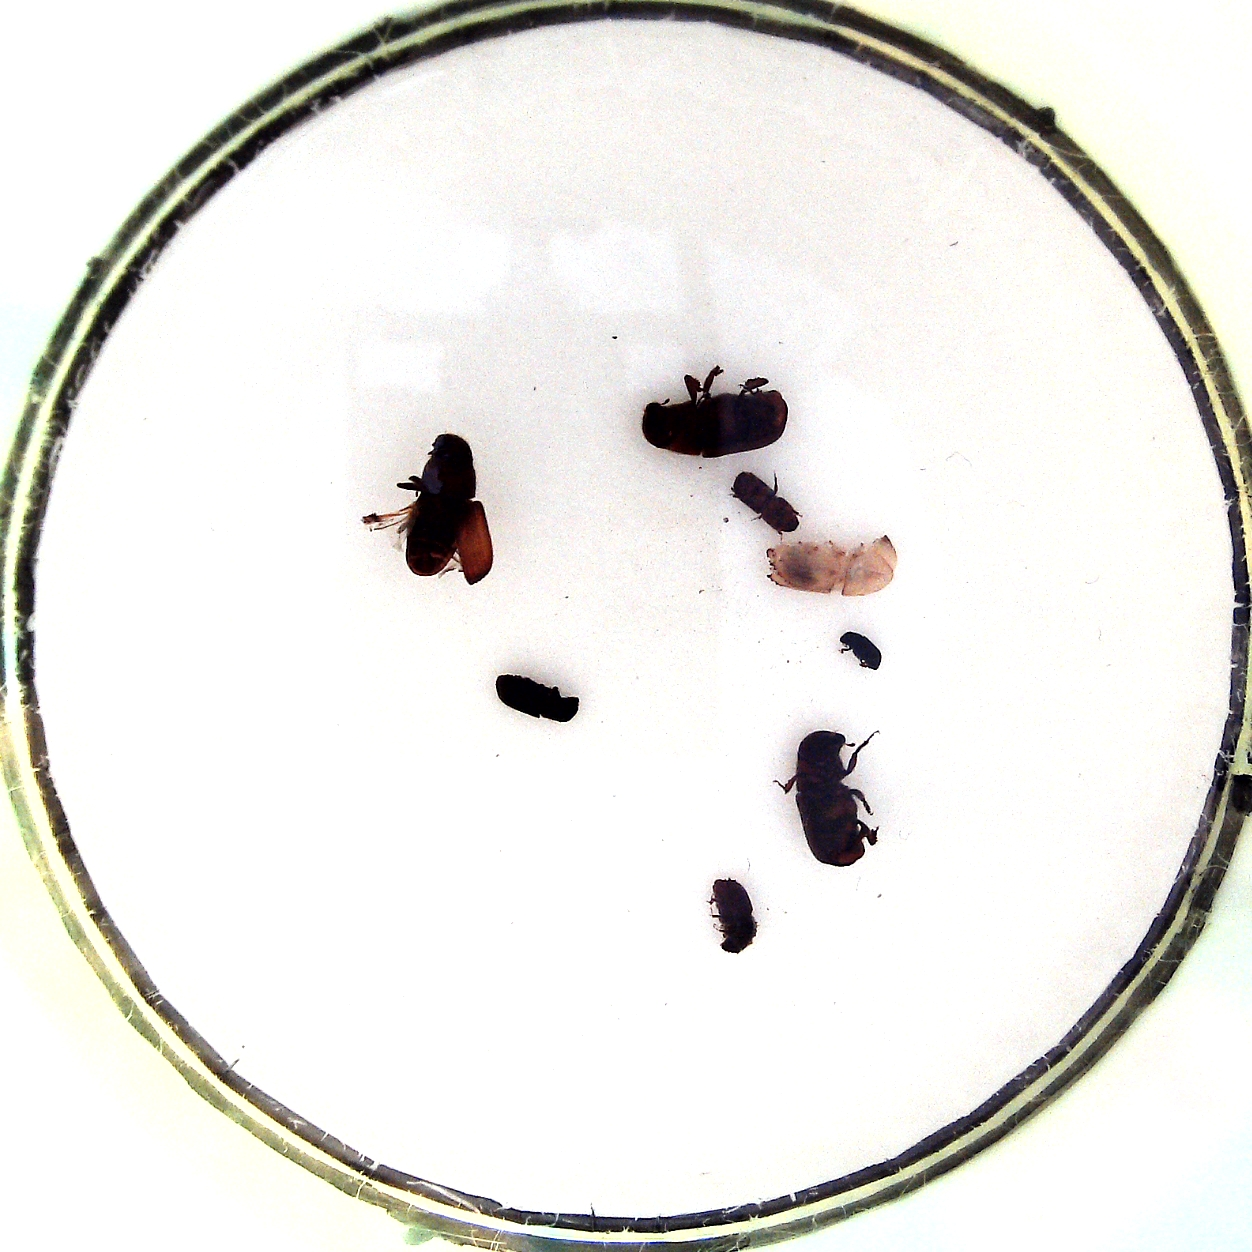Boerner: (760, 534, 903, 600)
Leconte: (368, 431, 496, 585), (773, 727, 889, 873), (637, 365, 791, 462)
Linnaeus: (707, 870, 762, 955)
acuminatus: (727, 467, 803, 537)
armandi: (490, 667, 581, 723)
coleoptera: (835, 626, 886, 670)
